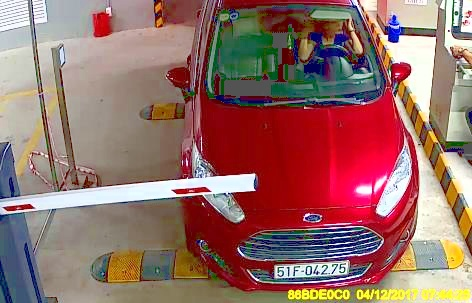plate: (271, 262, 349, 281)
